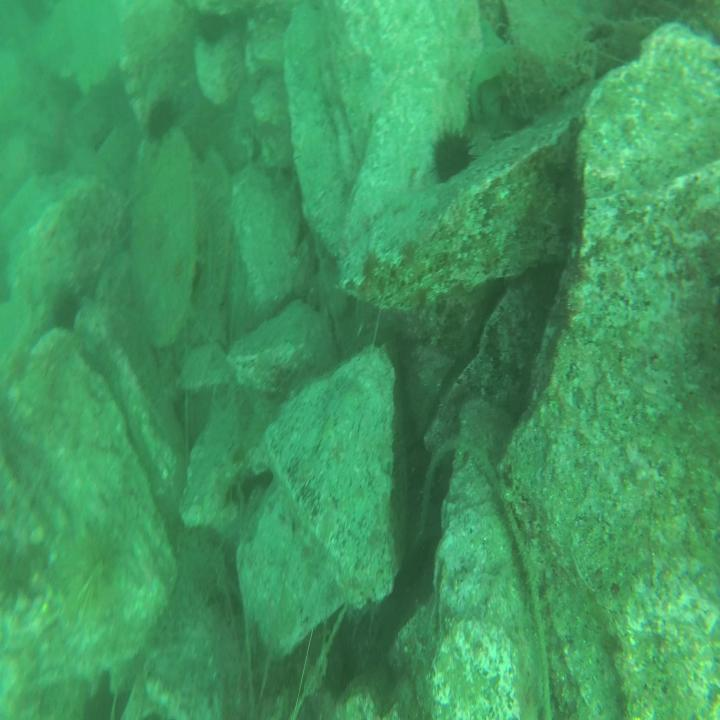echinus: (427, 128, 478, 187), (141, 89, 182, 146), (42, 286, 88, 332), (196, 7, 229, 46)
holothurian: (191, 146, 233, 330), (168, 528, 232, 609), (44, 527, 103, 593)
